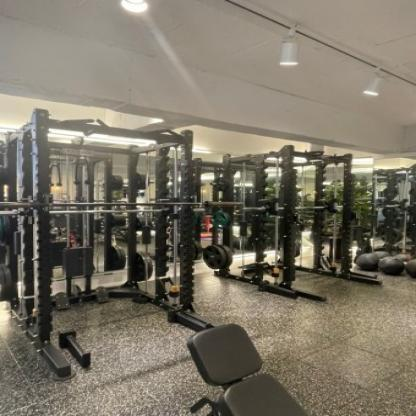smith machine: (4, 108, 216, 380), (223, 145, 361, 306)
